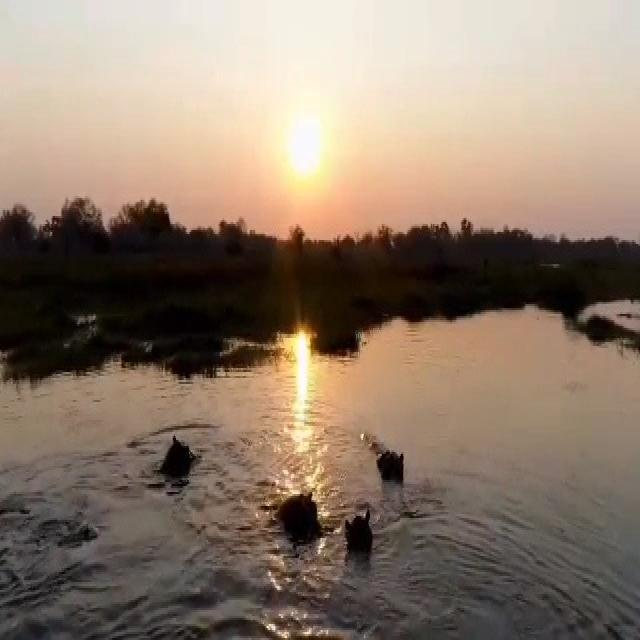Hippopotamus: (156, 432, 205, 498), (277, 484, 327, 548), (373, 440, 413, 492), (343, 499, 376, 559)
